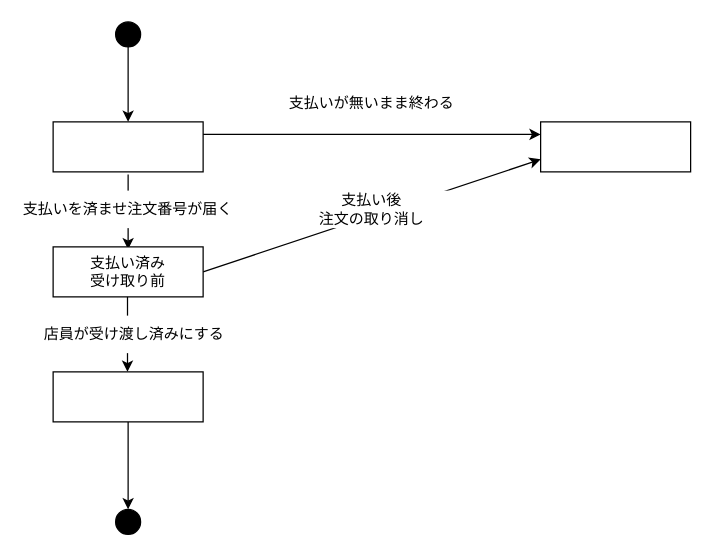
Some shapes in this 713 by 556 pixel diagram are drawn without their labels. Here are the shapes that lost their labels. From the top down, the centre of each, then its label:
At (127,146): "支払い前".
At (615,146): "取り消し済み".
At (127,396): "支払い済み 受け取り後".
